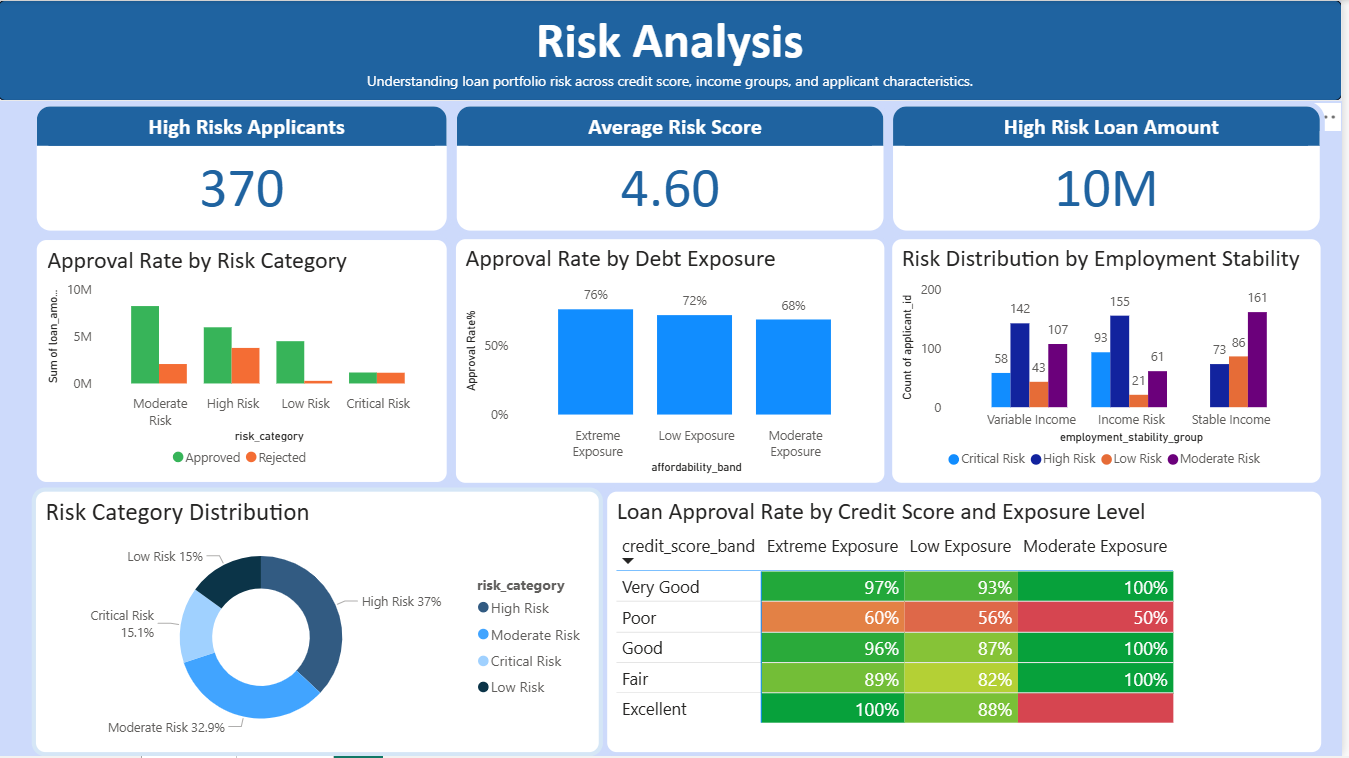

What the dashboard file says about the page in this screenshot:
{"tool":"powerbi","page":{"name":"Page 2","canvas":[1280,720],"ordinal":1},"visuals":[{"type":"textbox","box":[0,0,1280,96],"z":0},{"type":"card","title":"High Risks Applicants","fields":{"Values":["loan_risk_model_final.Count of applicant_id for High Risk"]},"box":[32,96,400,128],"z":1000},{"type":"card","title":"Average Risk Score","fields":{"Values":["Avg(loan_risk_model_final.total_risk_score)"]},"box":[432,96,416,128],"z":2000},{"type":"card","title":"High Risk Loan Amount","fields":{"Values":["loan_risk_model_final.Measure"]},"box":[848,96,416,128],"z":3000},{"type":"clusteredColumnChart","title":"Approval Rate by Risk Category","fields":{"Category":["loan_risk_model_final.risk_category"],"Series":["loan_risk_model_final.Loan_Status"],"Y":["Sum(loan_risk_model_final.loan_amount)"]},"box":[32,224,400,240],"z":4000},{"type":"pivotTable","title":"Loan Approval Rate by Credit Score and Exposure Level","fields":{"Rows":["loan_risk_model_final.credit_score_band"],"Columns":["loan_risk_model_final.affordability_band"],"Values":["loan_risk_model_final.Approval Rate%"]},"box":[576,464,688,256],"z":5000},{"type":"donutChart","title":"Risk Category Distribution","fields":{"Category":["loan_risk_model_final.risk_category"],"Y":["Count(loan_risk_model_final.applicant_id)"]},"box":[32,464,544,256],"z":6000},{"type":"clusteredColumnChart","title":"Approval Rate by Debt Exposure","fields":{"Category":["loan_risk_model_final.affordability_band"],"Y":["loan_risk_model_final.Approval Rate%"]},"box":[432,224,416,240],"z":7000},{"type":"clusteredColumnChart","title":"Risk Distribution by Employment Stability","fields":{"Category":["loan_risk_model_final.employment_stability_group"],"Series":["loan_risk_model_final.risk_category"],"Y":["Count(loan_risk_model_final.applicant_id)"]},"box":[848,224,416,240],"z":8000}]}

Visuals, with their boxes in screenshot pixels (x1, y1, x2, y2), scaled from the page's 1280x720 canvas onto the 1349x758 screenshot:
textbox: box=[0, 0, 1348, 101]
"High Risks Applicants" card: box=[34, 101, 455, 236]
"Average Risk Score" card: box=[455, 101, 894, 236]
"High Risk Loan Amount" card: box=[894, 101, 1332, 236]
"Approval Rate by Risk Category" clusteredColumnChart: box=[34, 236, 455, 488]
"Loan Approval Rate by Credit Score and Exposure Level" pivotTable: box=[607, 488, 1332, 757]
"Risk Category Distribution" donutChart: box=[34, 488, 607, 757]
"Approval Rate by Debt Exposure" clusteredColumnChart: box=[455, 236, 894, 488]
"Risk Distribution by Employment Stability" clusteredColumnChart: box=[894, 236, 1332, 488]
